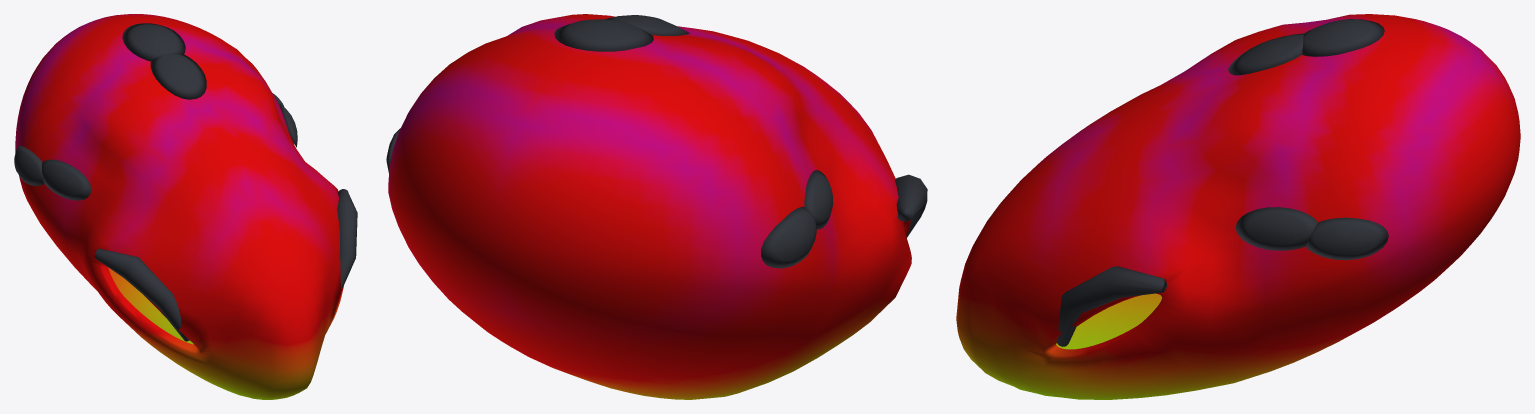
File: GXR_HEAD_03_SERPENT.glb
3 views of the same model, side by side, from view 1: azimuth 30°, elevation 25°; view 2: azimuth 150°, elevation 25°; view 3: azimuth 270°, elevation 25° (orthographic). The views are drawn at different scales.
Parts seen in each view (by area): view 1: Mesh_HeadSurface_SERPENT_Export, Mesh_Supraorbital_ridge.004_Export, Mesh_Organic_cranial_scute.012_Export, Mesh_Organic_cranial_scute.013_Export, Mesh_Organic_cranial_scute.014_Export, Mesh_Supraorbital_ridge.005_Export, Mesh_Organic_cranial_scute.015_Export, Mesh_Organic_cranial_scute.016_Export; view 2: Mesh_HeadSurface_SERPENT_Export, Mesh_Organic_cranial_scute.013_Export, Mesh_Organic_cranial_scute.015_Export, Mesh_Supraorbital_ridge.004_Export, Mesh_Organic_cranial_scute.014_Export, Mesh_Organic_cranial_scute.012_Export; view 3: Mesh_HeadSurface_SERPENT_Export, Mesh_Supraorbital_ridge.005_Export, Mesh_Organic_cranial_scute.016_Export, Mesh_Organic_cranial_scute.017_Export, Mesh_Organic_cranial_scute.013_Export, Mesh_Organic_cranial_scute.012_Export.
Boxes of the visible parts, box(x1,y1,x2,y2) form: Mesh_HeadSurface_SERPENT_Export: box(15, 14, 343, 399); Mesh_Supraorbital_ridge.004_Export: box(94, 248, 189, 341); Mesh_Organic_cranial_scute.012_Export: box(150, 53, 206, 99); Mesh_Organic_cranial_scute.013_Export: box(122, 23, 185, 61); Mesh_Organic_cranial_scute.014_Export: box(42, 159, 91, 200); Mesh_Supraorbital_ridge.005_Export: box(337, 189, 357, 288); Mesh_Organic_cranial_scute.015_Export: box(14, 146, 44, 185); Mesh_Organic_cranial_scute.016_Export: box(279, 103, 297, 147); Mesh_HeadSurface_SERPENT_Export: box(388, 14, 911, 399); Mesh_Organic_cranial_scute.013_Export: box(554, 19, 653, 51); Mesh_Organic_cranial_scute.015_Export: box(761, 206, 816, 268); Mesh_Supraorbital_ridge.004_Export: box(895, 174, 927, 237); Mesh_Organic_cranial_scute.014_Export: box(804, 170, 832, 229); Mesh_Organic_cranial_scute.012_Export: box(605, 15, 689, 35); Mesh_HeadSurface_SERPENT_Export: box(956, 14, 1520, 399); Mesh_Supraorbital_ridge.005_Export: box(1056, 266, 1166, 346); Mesh_Organic_cranial_scute.016_Export: box(1235, 207, 1317, 250); Mesh_Organic_cranial_scute.017_Export: box(1305, 217, 1388, 260); Mesh_Organic_cranial_scute.013_Export: box(1302, 19, 1384, 56); Mesh_Organic_cranial_scute.012_Export: box(1228, 33, 1303, 75).
Bounding box in the file's own units: 0.4896 × 0.5076 × 0.7118.
